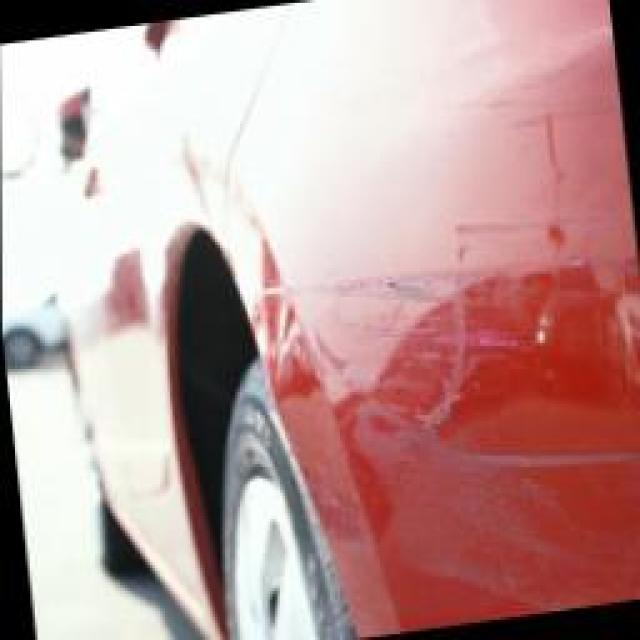Bumper: (231, 181, 640, 516)
